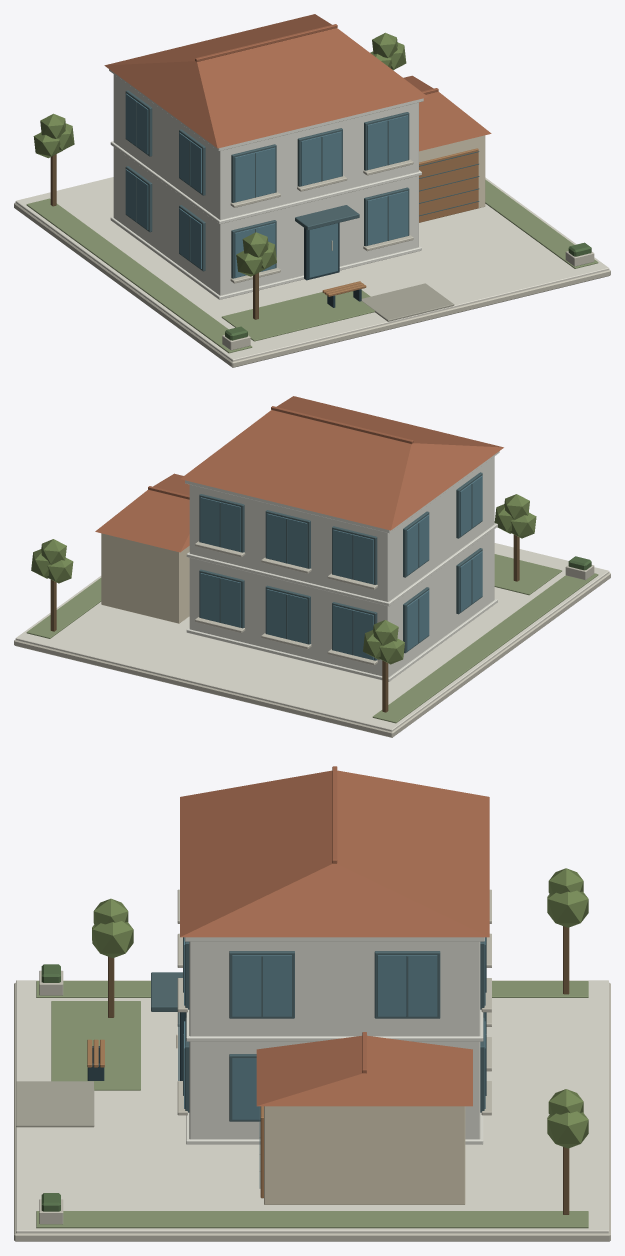
Rendered from small-4x4-a.glb.
3 views of the same model, one above another, from view 1: azimuth 30°, elevation 25°; view 2: azimuth 150°, elevation 25°; view 3: azimuth 270°, elevation 25° (orthographic). The views are drawn at different scales.
Parts seen in each view (by area): view 1: LotTop, BuildingBody, HipRoof_Unoccupied, GrassSide, LotBase, FrontLawn, GarageDoor, HipRoof_Unoccupied.001, GrassSide.001, EntryPath, WindowGlass.003, WindowGlass.009 (+23 smaller); view 2: HipRoof_Unoccupied, BuildingBody, LotTop, GarageBody, GrassSide, HipRoof_Unoccupied.001, LotBase, WindowGlass.002, WindowGlass.006, WindowGlass.008, WindowGlass.010, WindowGlass.004 (+21 smaller); view 3: LotTop, HipRoof_Unoccupied, BuildingBody, GarageBody, HipRoof_Unoccupied.001, GrassSide.001, FrontLawn, LotBase, SideGlass.007, EntryPath, SideGlass.005, GrassSide (+13 smaller).
Part boxes in pixels (x1,y1,x2,y2): LotTop: [15, 177, 609, 361]; BuildingBody: [113, 74, 418, 295]; HipRoof_Unoccupied: [104, 14, 427, 148]; GrassSide: [26, 198, 252, 353]; LotBase: [14, 202, 610, 367]; FrontLawn: [221, 290, 374, 341]; GarageDoor: [419, 148, 478, 222]; HipRoof_Unoccupied.001: [403, 75, 491, 151]; GrassSide.001: [485, 179, 598, 268]; EntryPath: [361, 283, 454, 321]; WindowGlass.003: [367, 191, 408, 245]; WindowGlass.009: [367, 115, 408, 169]; HipRoof_Unoccupied: [180, 396, 503, 530]; BuildingBody: [189, 456, 494, 677]; LotTop: [15, 543, 609, 731]; GarageBody: [101, 533, 189, 623]; GrassSide: [372, 573, 598, 723]; HipRoof_Unoccupied.001: [95, 473, 189, 552]; LotBase: [14, 572, 610, 737]; WindowGlass.002: [266, 589, 307, 643]; WindowGlass.006: [333, 529, 373, 584]; WindowGlass.008: [266, 513, 307, 567]; WindowGlass.010: [200, 497, 240, 551]; WindowGlass.004: [200, 573, 240, 627]; LotTop: [16, 980, 608, 1233]; HipRoof_Unoccupied: [180, 770, 489, 937]; BuildingBody: [189, 941, 480, 1139]; GarageBody: [264, 1106, 465, 1204]; HipRoof_Unoccupied.001: [256, 1035, 472, 1106]; GrassSide.001: [36, 1211, 588, 1228]; FrontLawn: [51, 1001, 140, 1090]; LotBase: [14, 982, 610, 1241]; SideGlass.007: [377, 955, 437, 1016]; EntryPath: [16, 1081, 94, 1127]; SideGlass.005: [232, 955, 291, 1016]; GrassSide: [36, 981, 588, 997].
Size of the model in its own units: 16 by 8.22 by 16.
